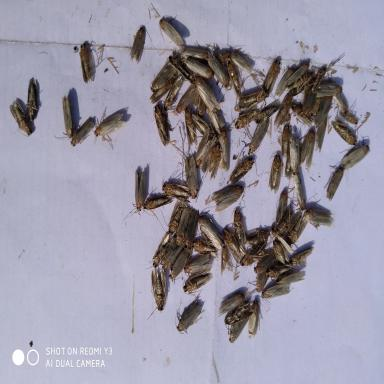pbw: (140, 186, 176, 238), (89, 105, 128, 153), (176, 147, 206, 205), (208, 174, 247, 214), (146, 98, 176, 149), (144, 265, 170, 323), (189, 71, 222, 116), (74, 41, 107, 85), (52, 88, 79, 141), (216, 283, 256, 318), (224, 152, 265, 186), (325, 77, 359, 117), (145, 228, 176, 271), (174, 292, 204, 336), (245, 112, 271, 162), (182, 56, 216, 94), (220, 220, 248, 266), (228, 101, 264, 135), (193, 212, 226, 249), (328, 116, 360, 154), (226, 299, 253, 344), (265, 228, 298, 264), (304, 197, 336, 234), (156, 12, 188, 49), (204, 52, 233, 92), (148, 56, 178, 94), (337, 141, 372, 173), (125, 24, 153, 64), (194, 127, 222, 167), (180, 267, 216, 298), (299, 72, 322, 120), (160, 72, 186, 114), (7, 98, 33, 140), (260, 282, 292, 316), (169, 80, 198, 117), (234, 82, 272, 110), (156, 238, 187, 272), (158, 177, 193, 207), (272, 62, 299, 100), (263, 149, 285, 195), (180, 106, 200, 156), (322, 166, 349, 203), (285, 68, 317, 99), (147, 74, 178, 106), (297, 127, 319, 172), (259, 57, 283, 98), (273, 205, 303, 237), (190, 232, 222, 262), (246, 298, 268, 341), (188, 109, 218, 140), (182, 251, 214, 280), (312, 91, 337, 128), (174, 204, 195, 248), (203, 106, 227, 144), (162, 52, 192, 82), (237, 243, 273, 268), (253, 97, 284, 126), (283, 212, 309, 246), (228, 204, 248, 248), (241, 228, 272, 256), (22, 76, 40, 124), (216, 124, 234, 172), (250, 257, 273, 294), (68, 116, 97, 145), (312, 113, 332, 155), (273, 266, 308, 289), (224, 60, 244, 99), (288, 245, 316, 272), (273, 188, 291, 230), (287, 134, 303, 180), (280, 138, 297, 181), (336, 106, 364, 132), (216, 242, 235, 277), (263, 262, 293, 284), (311, 82, 345, 101), (279, 121, 295, 160), (180, 44, 211, 64), (292, 184, 310, 214), (289, 170, 308, 194)
